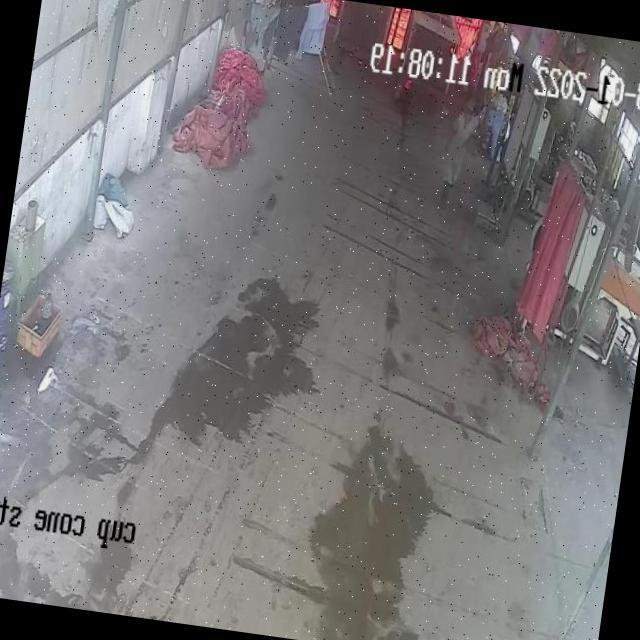person: (437, 91, 478, 212)
